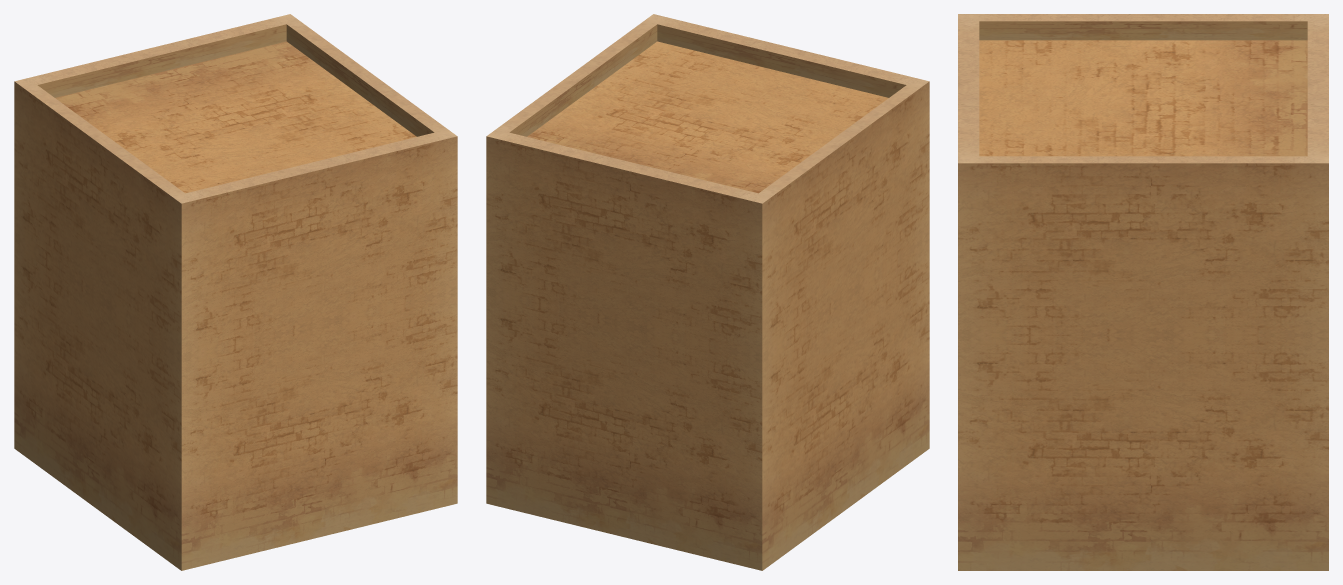
The model's file is House_08.fbx.
The picture shows the model from 3 angles, left to right: view 1: azimuth 30°, elevation 25°; view 2: azimuth 150°, elevation 25°; view 3: azimuth 270°, elevation 25°; orthographic projection. The views are drawn at different scales.
Parts seen in each view (by area): view 1: House_08; view 2: House_08; view 3: House_08.
Boxes of the visible parts, x1,y1,x2,y2 form: House_08: (14,14,457,570); House_08: (486,14,929,570); House_08: (958,14,1328,570).
Size of the model in its own units: 102 by 129 by 107.
